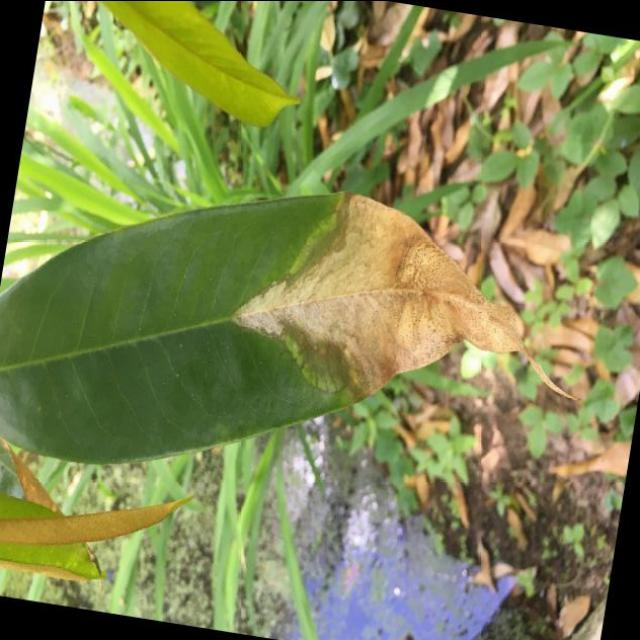Leaf Blight: (0, 134, 551, 536)
